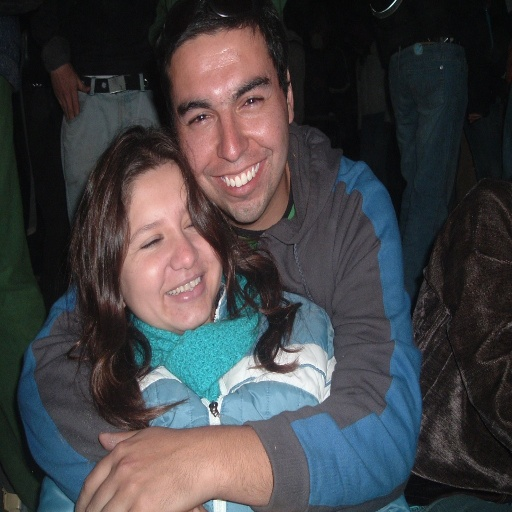hand: (72, 430, 221, 510), (51, 64, 92, 123)
